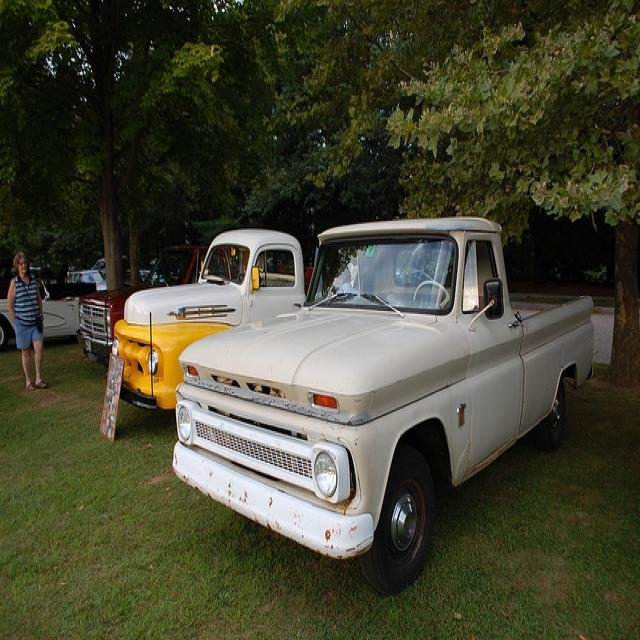Vehicle: (170, 215, 602, 588), (114, 227, 308, 412), (79, 244, 210, 368), (0, 272, 97, 352), (66, 270, 108, 293)
